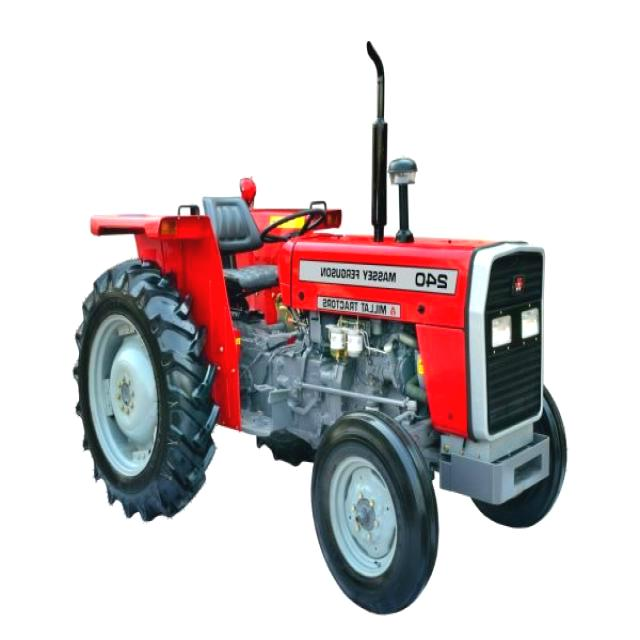Tratores - v5 YOLO V8L 2024-11-13: (59, 16, 568, 602)
